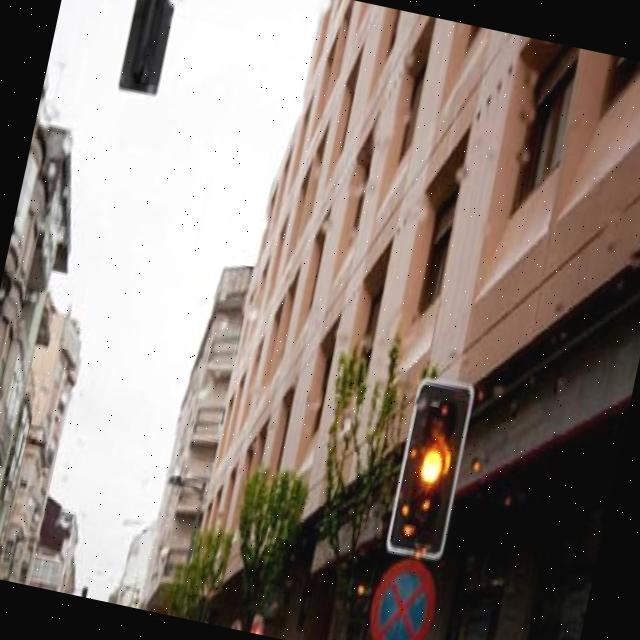yellow_light: (396, 396, 464, 550)
